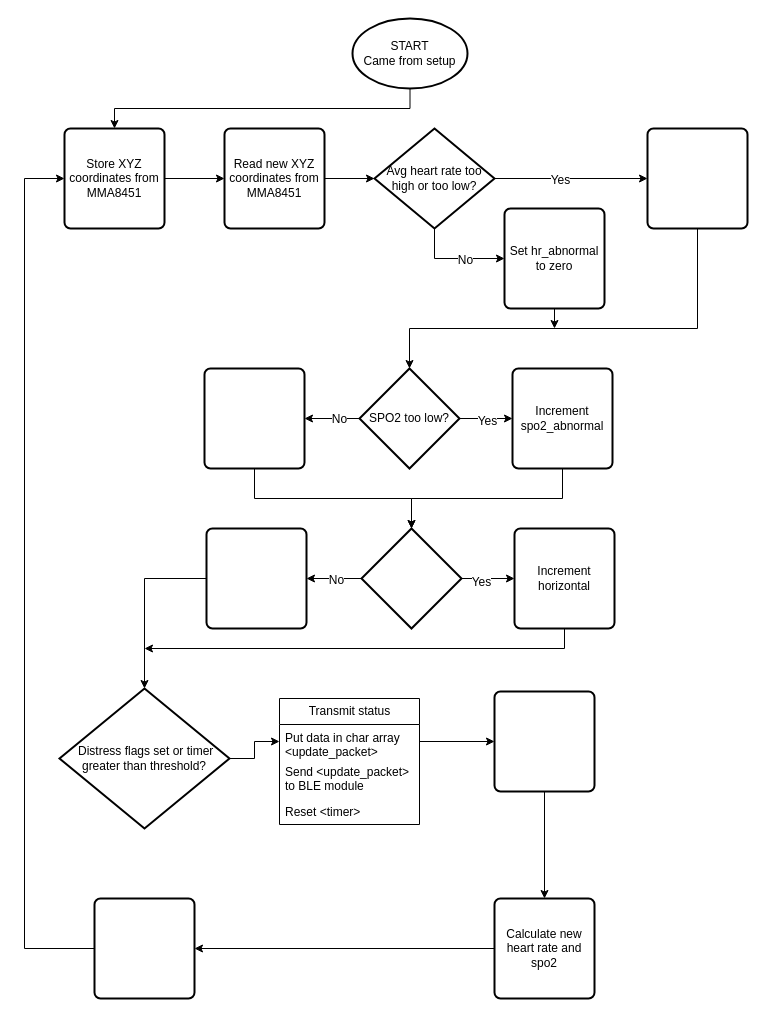
Image size: 766x1016. Some labels were removed from this diagram. Here are the shapes that lost their labels. From the top down, the centre of each, then its label:
At [697,178]: "Increment hr_abnormal".
At [254,418]: "Set spo2_abnormal to zero".
At [256,578]: "Set horizontal to zero".
At [411,578]: "Is the user horizontal?".
At [544,741]: "Read new sample set from MAX30102".
At [144,948]: "Increment <timer>".
